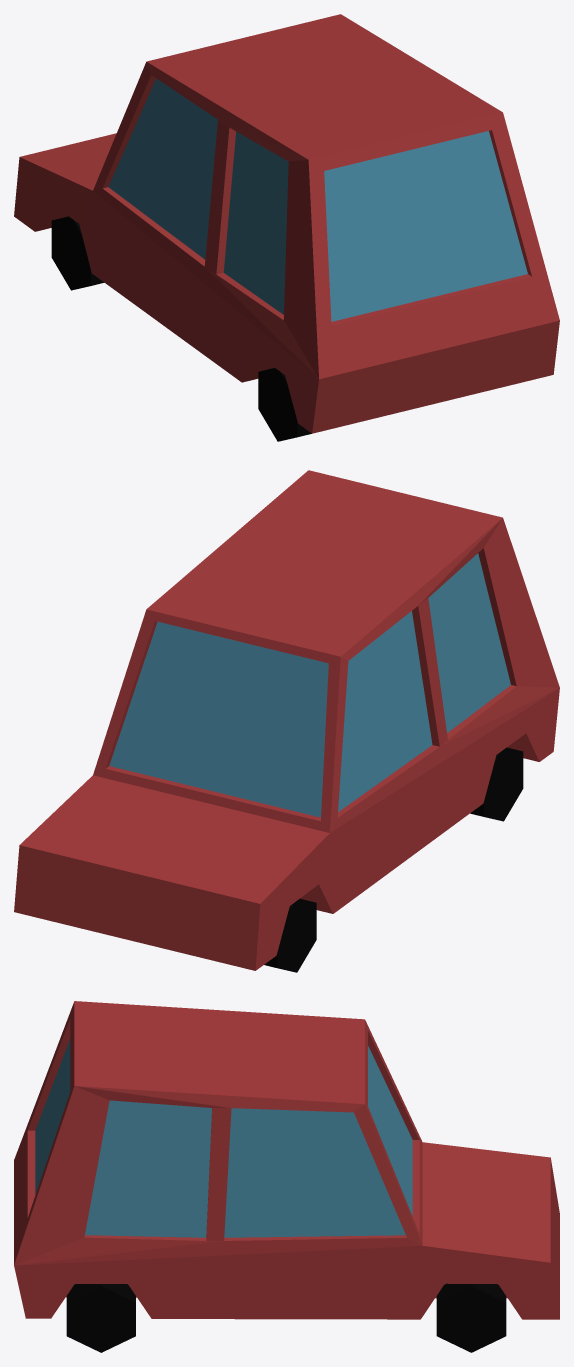
File: car.fbx
3 renders of one model, top to bottom at view 1: azimuth 30°, elevation 25°; view 2: azimuth 150°, elevation 25°; view 3: azimuth 270°, elevation 25°, orthographic. The views are drawn at different scales.
Parts seen in each view (by area): view 1: Cube.037, Cylinder.001; view 2: Cube.037, Cylinder.001; view 3: Cube.037, Cylinder.002.
Boxes of the visible parts, x1,y1,x2,y2 form: Cube.037: (14, 14, 559, 433); Cylinder.001: (51, 216, 311, 441); Cube.037: (14, 470, 559, 970); Cylinder.001: (264, 747, 523, 972); Cube.037: (14, 1001, 559, 1319); Cylinder.002: (66, 1283, 506, 1352).
Size of the model in its own units: 0.2772 by 0.317 by 0.6058.
